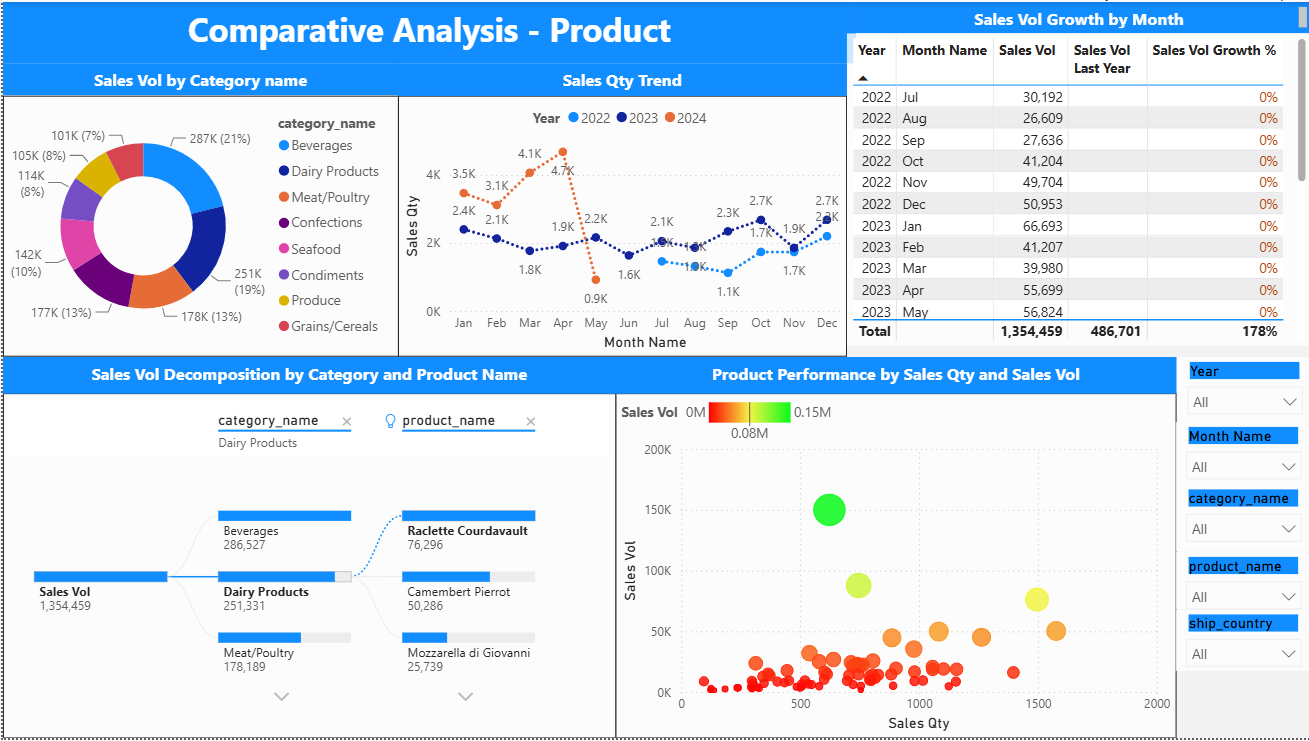

This screenshot's page, from the dashboard's own definition file:
{"tool":"powerbi","page":{"name":" Comparative Analysis - Product","canvas":[1280,720],"ordinal":1},"visuals":[{"type":"donutChart","fields":{"Y":["1.Measures Table.Sales Vol"],"Category":["Product.category_name"]},"box":[0,91.9,387,255.2],"z":0},{"type":"lineChart","title":"Sales Qty Trend","fields":{"Y":["1.Measures Table.Sales Quantity"],"Category":["Calendar.Month Name"],"Series":["Calendar.Year"]},"box":[386.4,91.7,439,255.6],"z":1000},{"type":"textbox","box":[0,0,834.3,60.4],"z":2000},{"type":"tableEx","fields":{"Values":["Calendar.Year","Calendar.Month Name","1.Measures Table.Sales Vol","1.Measures Table.Sales Vol Last Year","1.Measures Table.YOY Growth %"]},"box":[825.4,30.6,454.9,305.7],"z":3000},{"type":"decompositionTreeVisual","fields":{"Analyze":["1.Measures Table.Sales Vol"],"ExplainBy":["Product.category_name","Product.product_name"]},"box":[0,382.8,599.7,337.6],"z":4000},{"type":"textbox","box":[0,347.2,599.7,35.7],"z":5000},{"type":"scatterChart","fields":{"X":["1.Measures Table.Sales Quantity"],"Y":["1.Measures Table.Sales Vol"],"Category":["Product.product_id"],"Size":["1.Measures Table.Sales Vol"]},"box":[599.7,382.8,548.9,337.6],"z":6000},{"type":"textbox","box":[0,60.4,387,31.6],"z":7000},{"type":"textbox","box":[386.4,59.9,439,31.8],"z":8000},{"type":"textbox","box":[599.7,347.2,548.9,35.7],"z":9000},{"type":"textbox","box":[834,0,446.3,30.6],"z":10000},{"type":"slicer","fields":{"Values":["Calendar.Year"]},"box":[1148.5,347.2,133.1,63.1],"z":11000},{"type":"slicer","fields":{"Values":["Calendar.Month Name"]},"box":[1147.2,410.3,133.1,61.7],"z":12000},{"type":"slicer","fields":{"Values":["Product.category_name"]},"box":[1147.2,472,133.1,65.9],"z":13000},{"type":"slicer","fields":{"Values":["Product.product_name"]},"box":[1147.2,537.9,133.1,56.3],"z":14000},{"type":"slicer","fields":{"Values":["Sale data.ship_country"]},"box":[1147.2,594.2,133.1,60.4],"z":15000}]}

Visuals, with their boxes in screenshot pixels (x1, y1, x2, y2), scaled from the page's 1280x720 canvas onto the 1309x741 screenshot:
donutChart - 1.Measures Table.Sales Vol x Product.category_name: (0, 95, 396, 357)
"Sales Qty Trend" lineChart: (395, 94, 844, 357)
textbox: (0, 0, 853, 62)
tableEx - Calendar.Year x Calendar.Month Name: (844, 31, 1308, 346)
decompositionTreeVisual - 1.Measures Table.Sales Vol x Product.category_name: (0, 394, 613, 740)
textbox: (0, 357, 613, 394)
scatterChart - 1.Measures Table.Sales Quantity x 1.Measures Table.Sales Vol: (613, 394, 1175, 740)
textbox: (0, 62, 396, 95)
textbox: (395, 62, 844, 94)
textbox: (613, 357, 1175, 394)
textbox: (853, 0, 1308, 31)
slicer - Calendar.Year: (1175, 357, 1308, 422)
slicer - Calendar.Month Name: (1173, 422, 1308, 486)
slicer - Product.category_name: (1173, 486, 1308, 554)
slicer - Product.product_name: (1173, 554, 1308, 612)
slicer - Sale data.ship_country: (1173, 612, 1308, 674)
